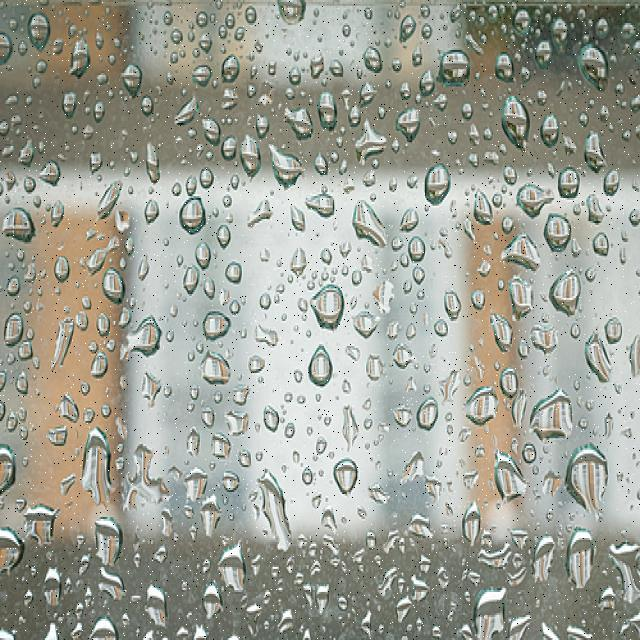raindrop: (556, 436, 626, 522), (250, 458, 300, 556), (76, 421, 122, 518), (520, 382, 580, 454), (298, 275, 354, 352), (75, 506, 132, 580), (424, 32, 479, 108), (417, 146, 469, 216), (546, 259, 596, 331), (572, 31, 620, 105), (211, 534, 257, 608), (119, 326, 180, 378), (490, 445, 535, 515), (496, 228, 545, 292), (453, 482, 492, 560), (265, 137, 311, 201), (325, 442, 368, 510), (0, 201, 49, 260), (188, 342, 242, 394), (458, 376, 503, 436), (234, 114, 273, 182), (354, 191, 396, 254), (499, 266, 539, 332), (302, 329, 338, 402), (513, 170, 558, 228), (194, 484, 232, 550), (500, 89, 534, 161), (196, 301, 243, 353), (538, 207, 582, 260), (410, 382, 448, 443), (18, 8, 55, 65), (94, 254, 129, 314), (174, 194, 212, 244)
